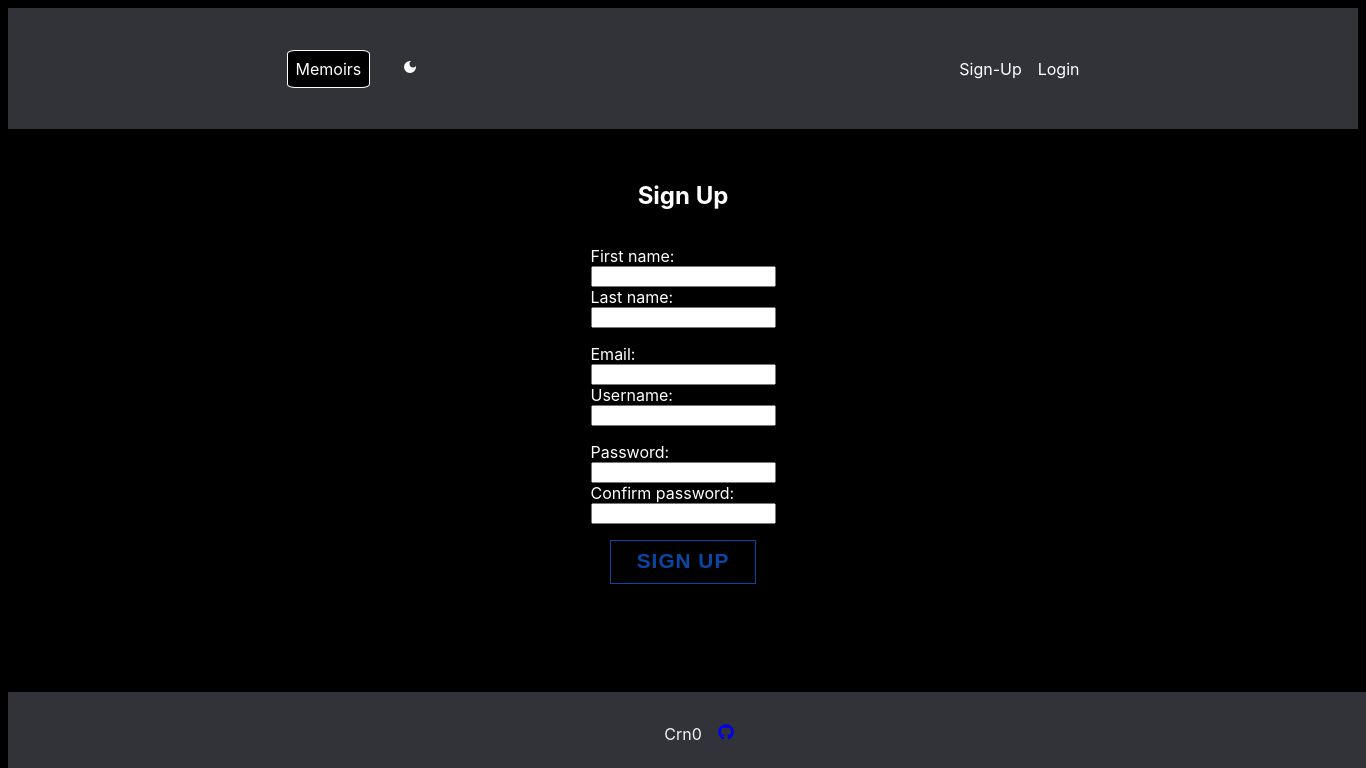
Sign-up form page › renders an error message if the email is already taken
Type "Jane" into the field labelled "First name:" at (683, 276), box [590,266,776,287]
Type "Doe" into the field labelled "Last name:" at (683, 318), box [590,307,776,328]
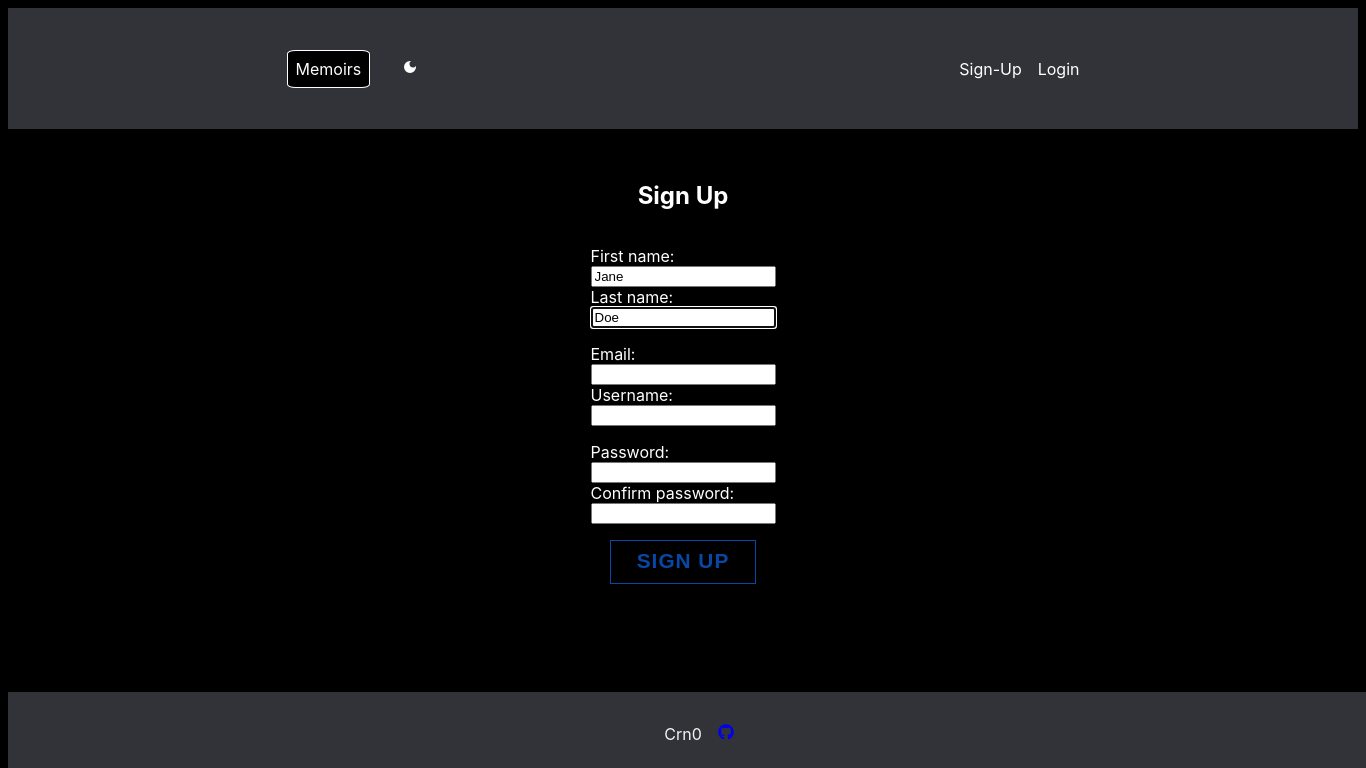
Type "JD" into the field labelled "Username:" at (683, 416), box [590,405,776,426]
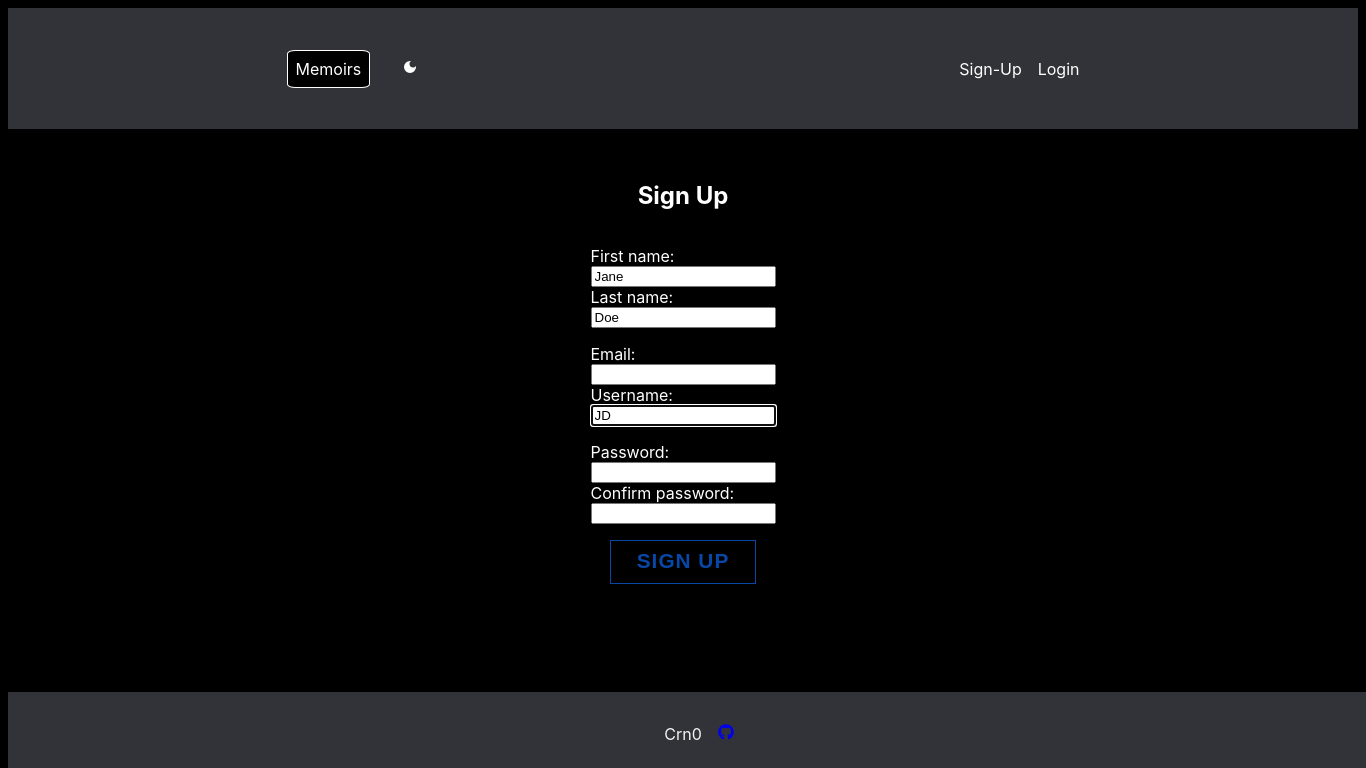
Type "janeD@example.com" into the field labelled "Email:" at (683, 374), box [590,364,776,385]
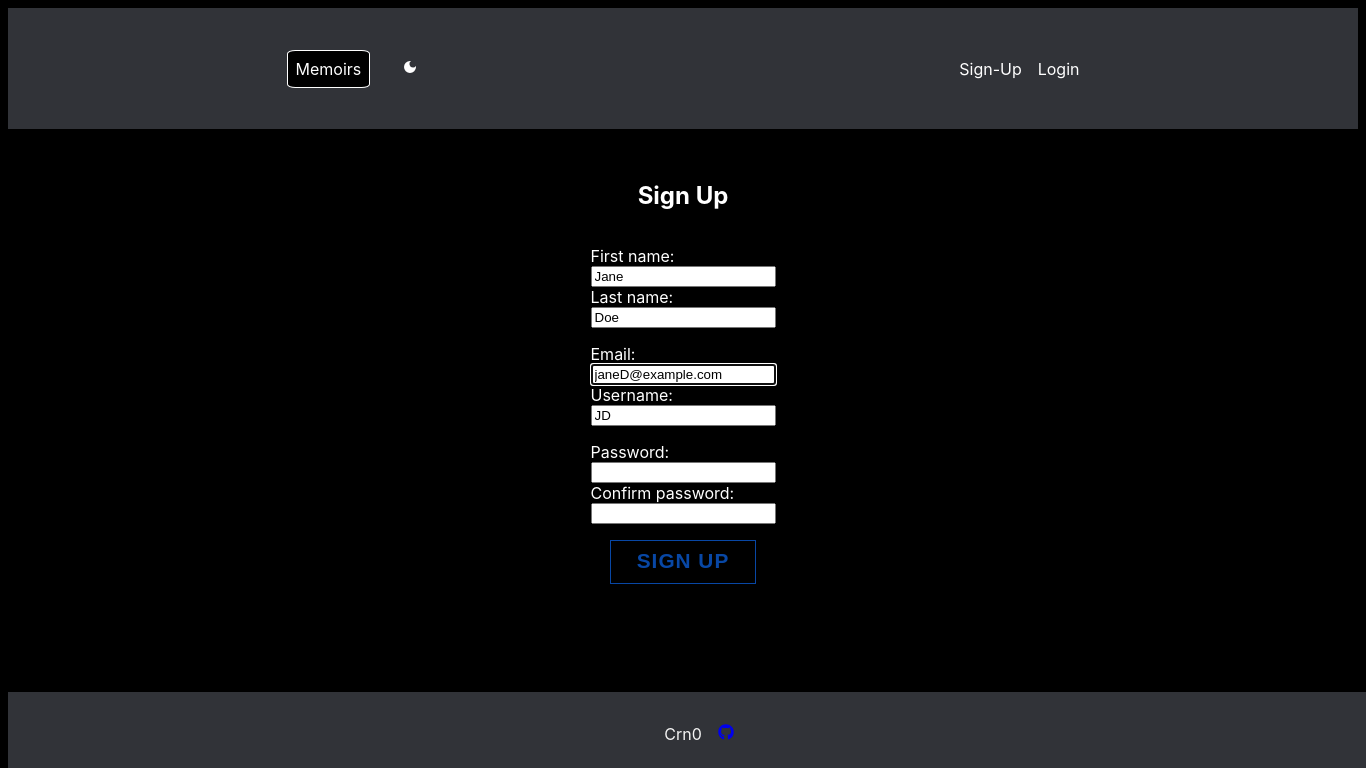
Type "1234" into the password field labelled "Password:" at (683, 472), box [590,462,776,483]
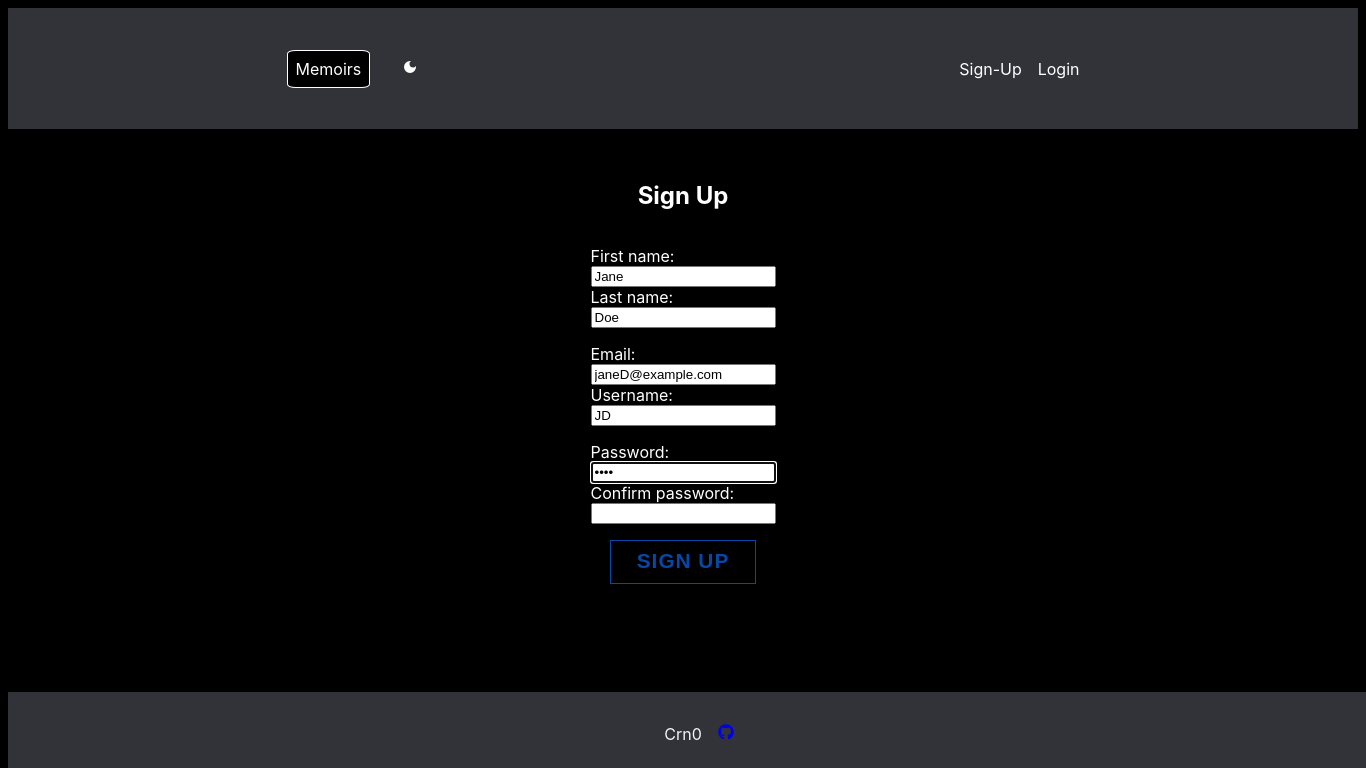
Type "1234" into the password field labelled "Confirm password:" at (683, 514), box [590,503,776,524]
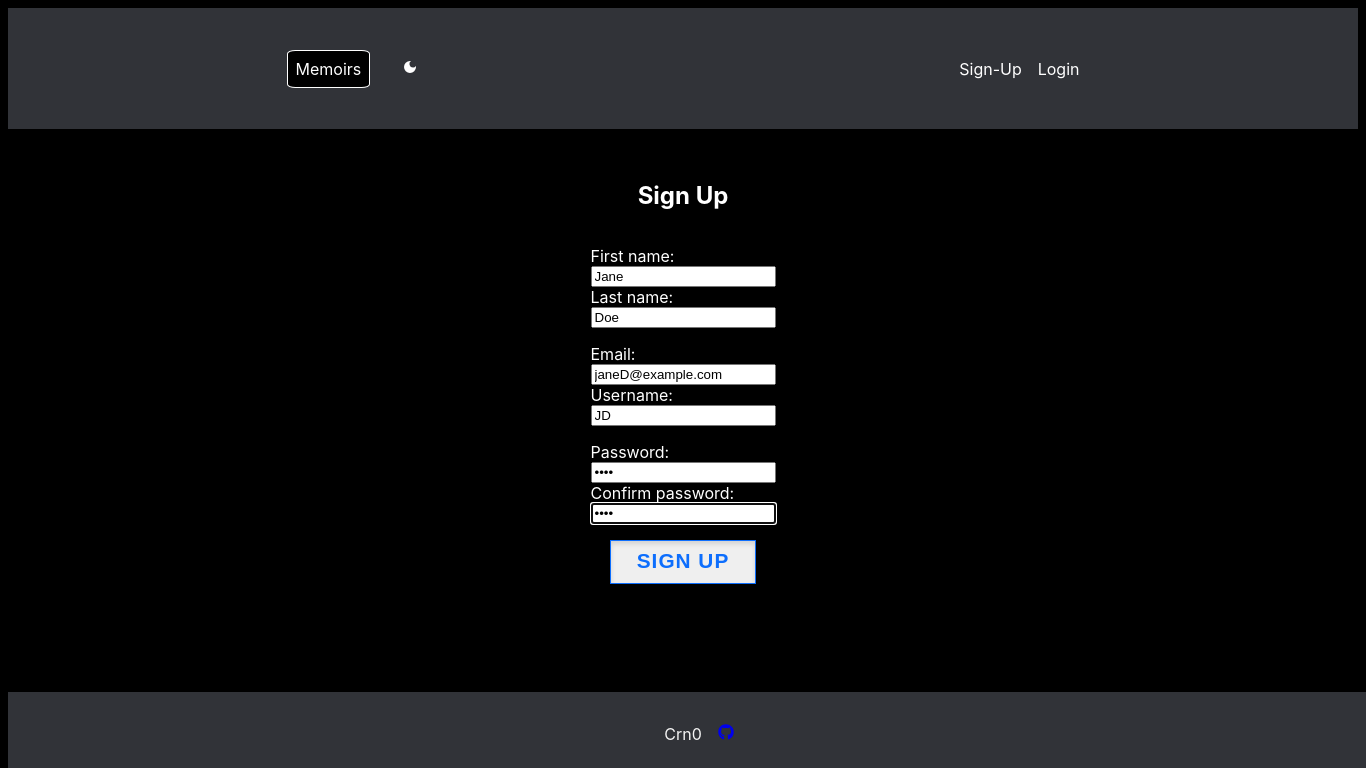
Click the button "Sign Up" at (683, 562), box [610,540,756,584]
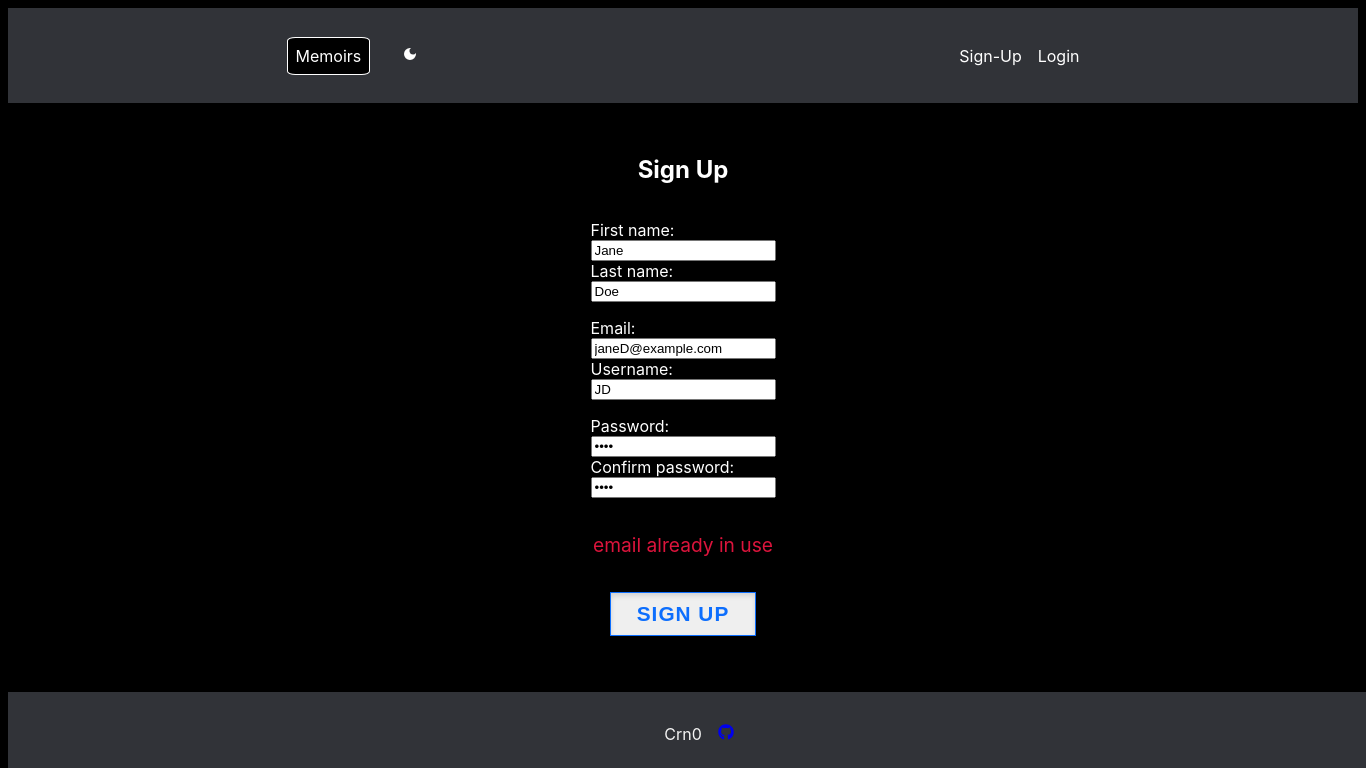
Expected: the text "email already in use" is shown, [593,533,773,557]
